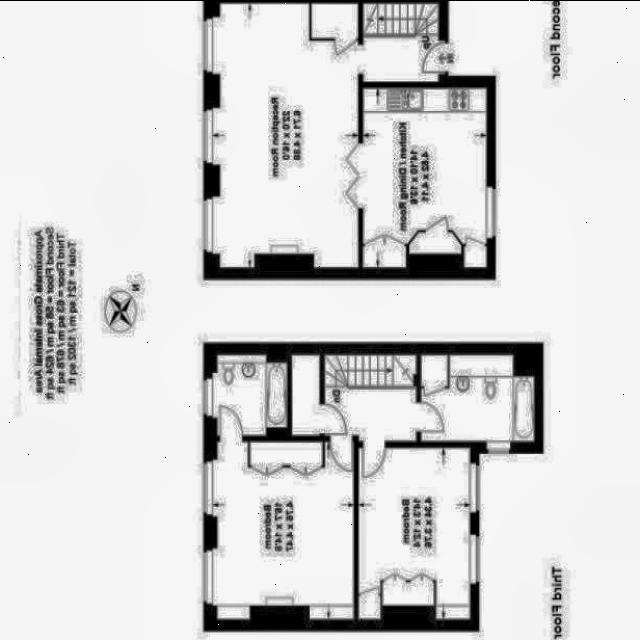room: (213, 3, 439, 268), (217, 440, 354, 619), (362, 87, 487, 266), (358, 446, 470, 619), (420, 353, 535, 441), (324, 354, 417, 440), (211, 353, 287, 435), (292, 355, 320, 435), (311, 2, 358, 38)
